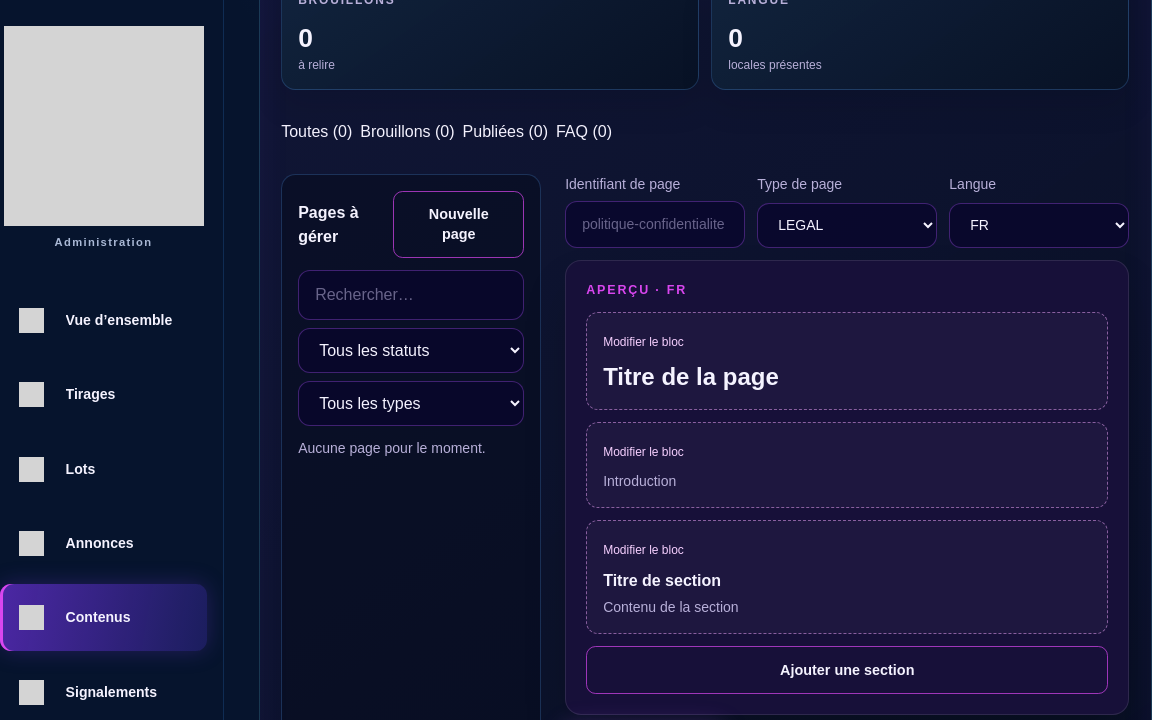
Test: GestionContenu › ouvre un bloc dans une modale d’édition
(page scrolled)
Step 1. Click the button "Modifier le bloc Titre de la page" → coordinates (643, 342), box [586,312,1108,410]
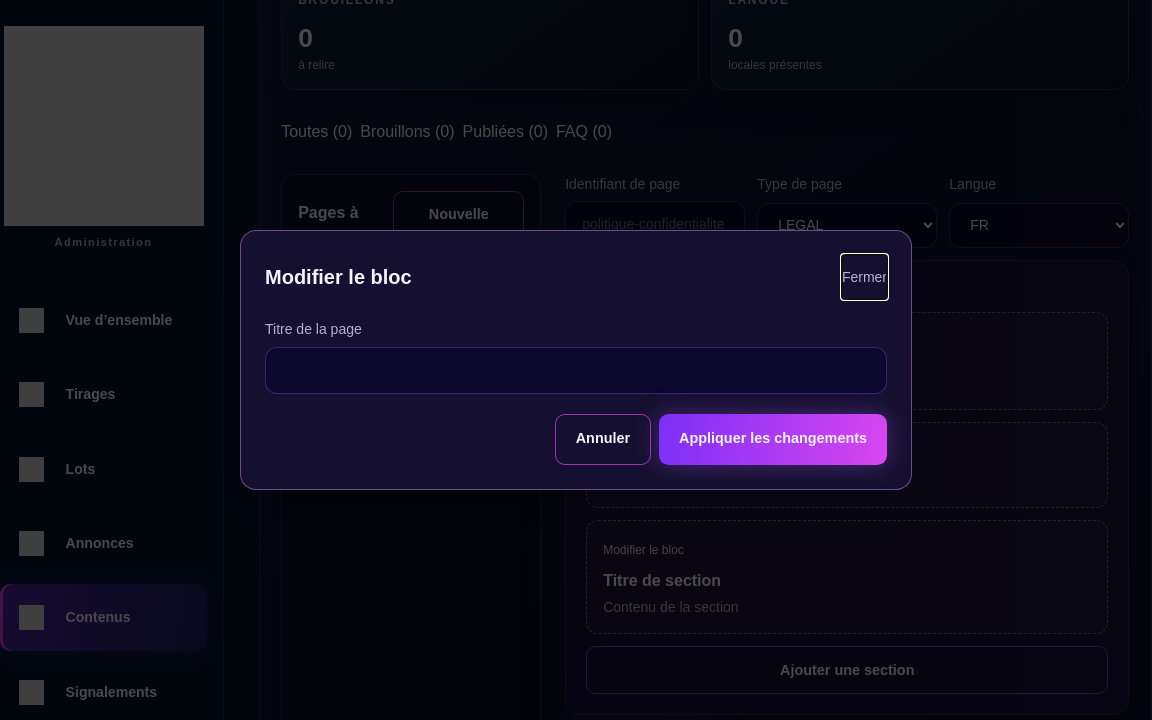
Expected: the dialog is shown
Expected: the button "Appliquer les changements" is shown, [659,414,887,465]
Step 2. Press Tab
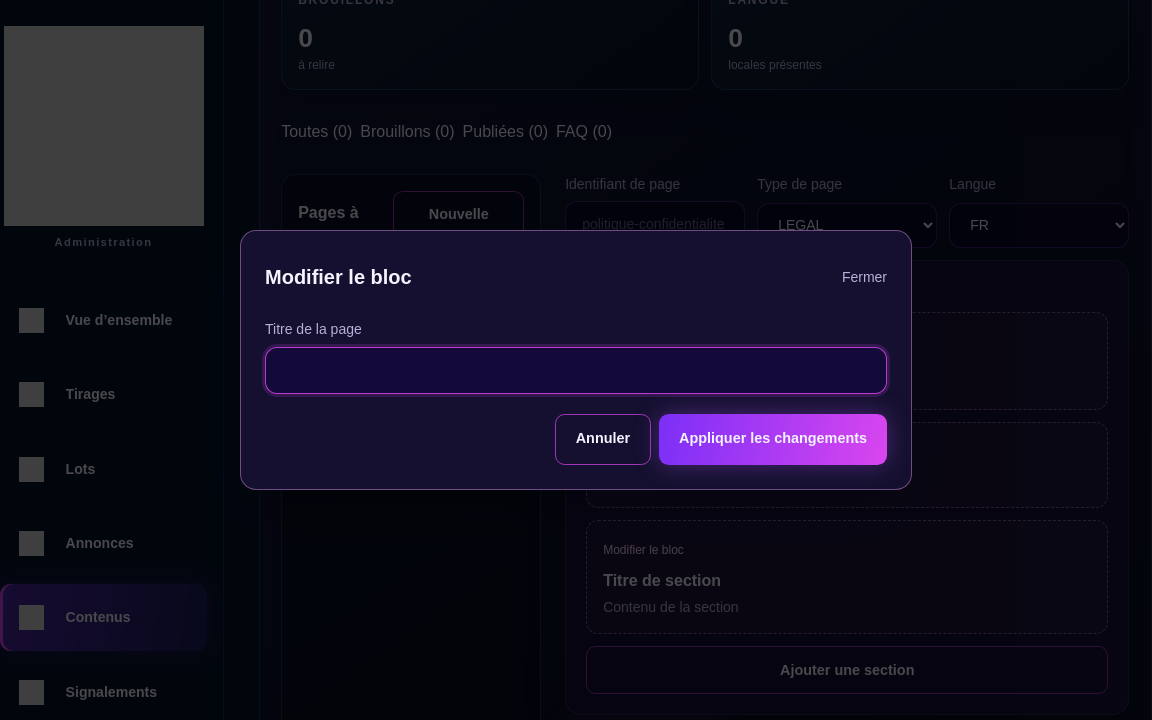
Step 3. Press Tab
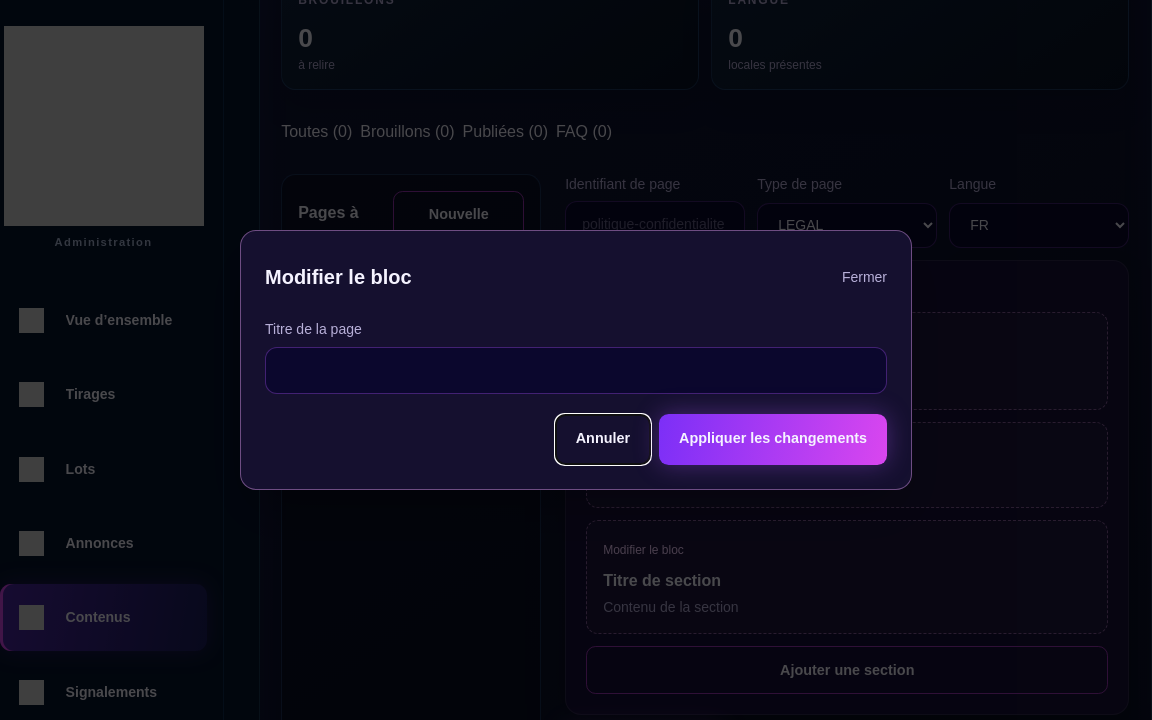
Step 4. Press Tab
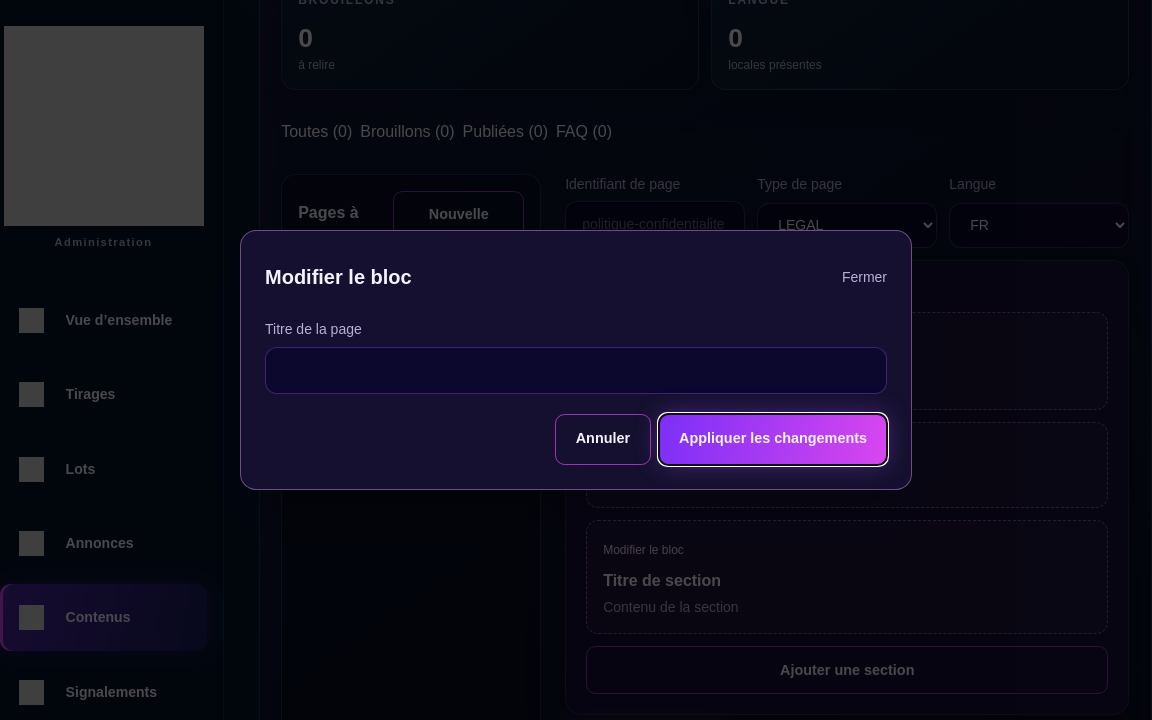
Step 5. Press Tab
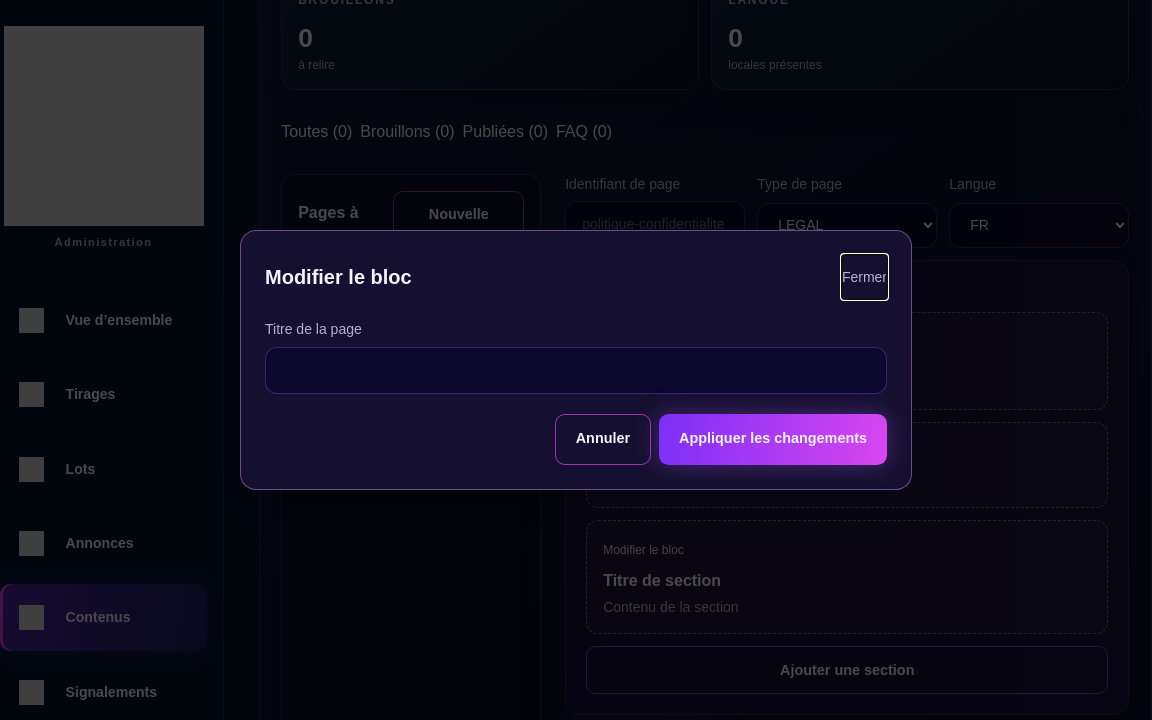
Step 6. Press Escape
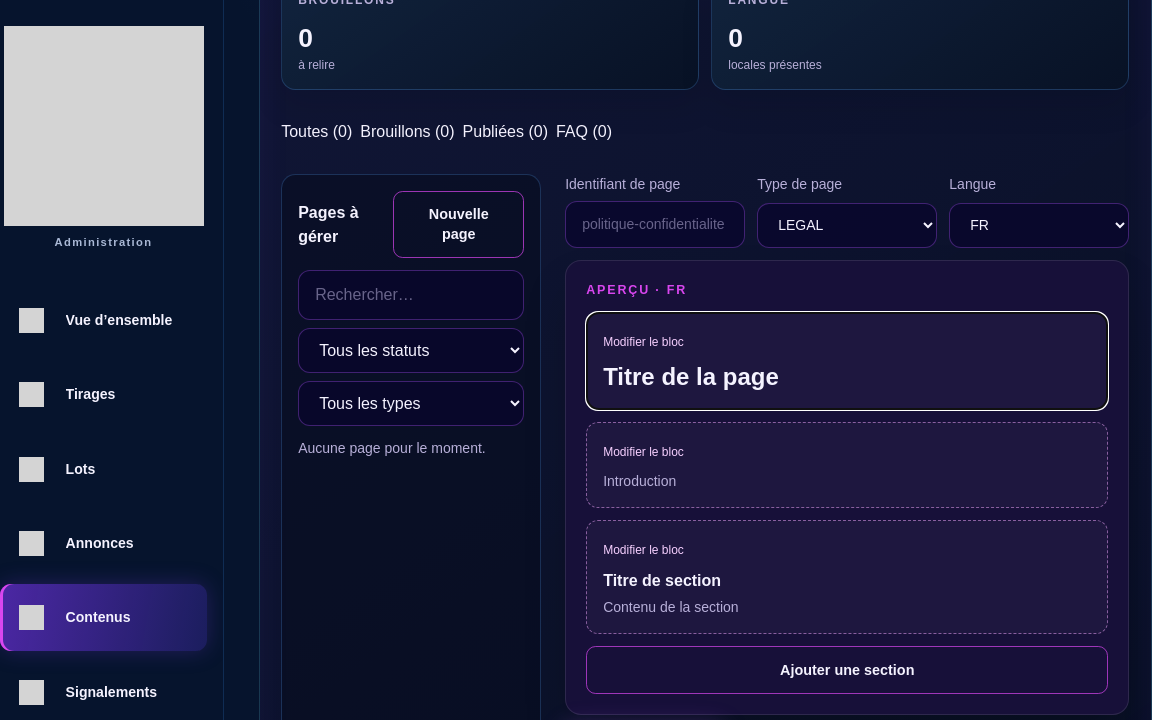
Expected: the dialog is gone
